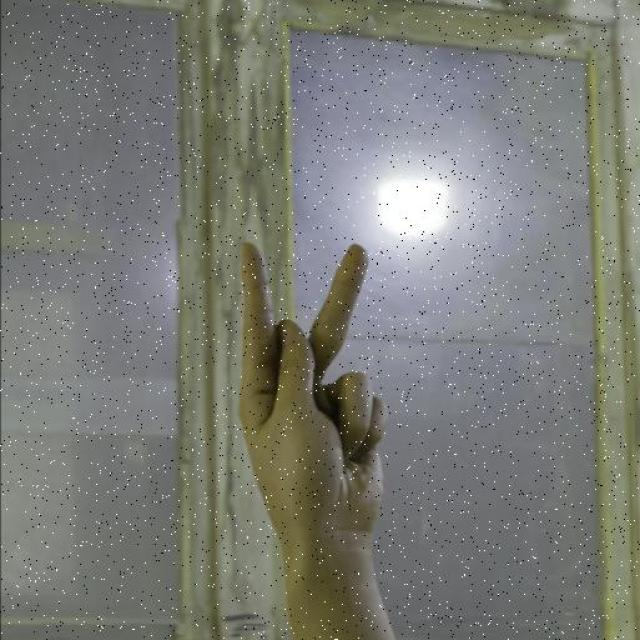K: (232, 237, 392, 542)
